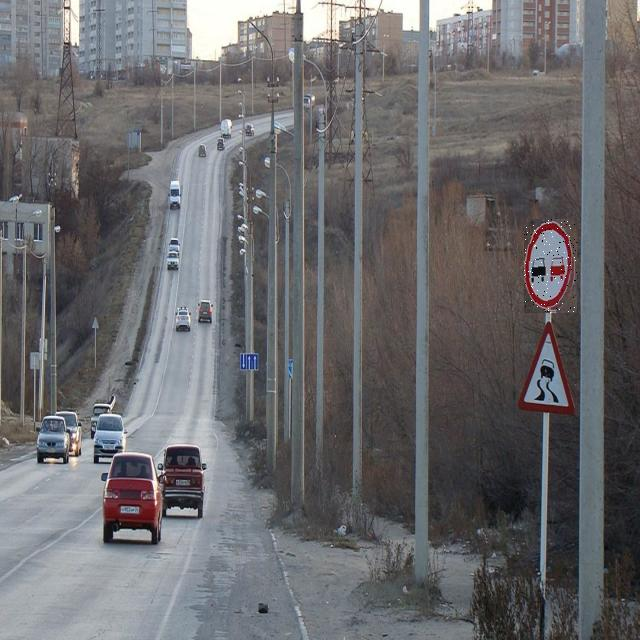no overtaking: (524, 219, 577, 313)
